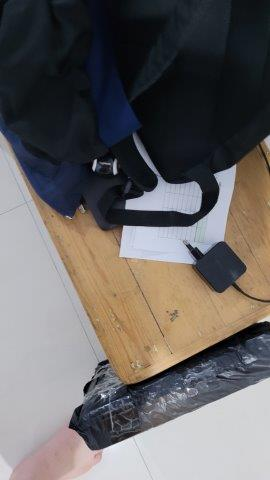kertas: (118, 124, 239, 263)
